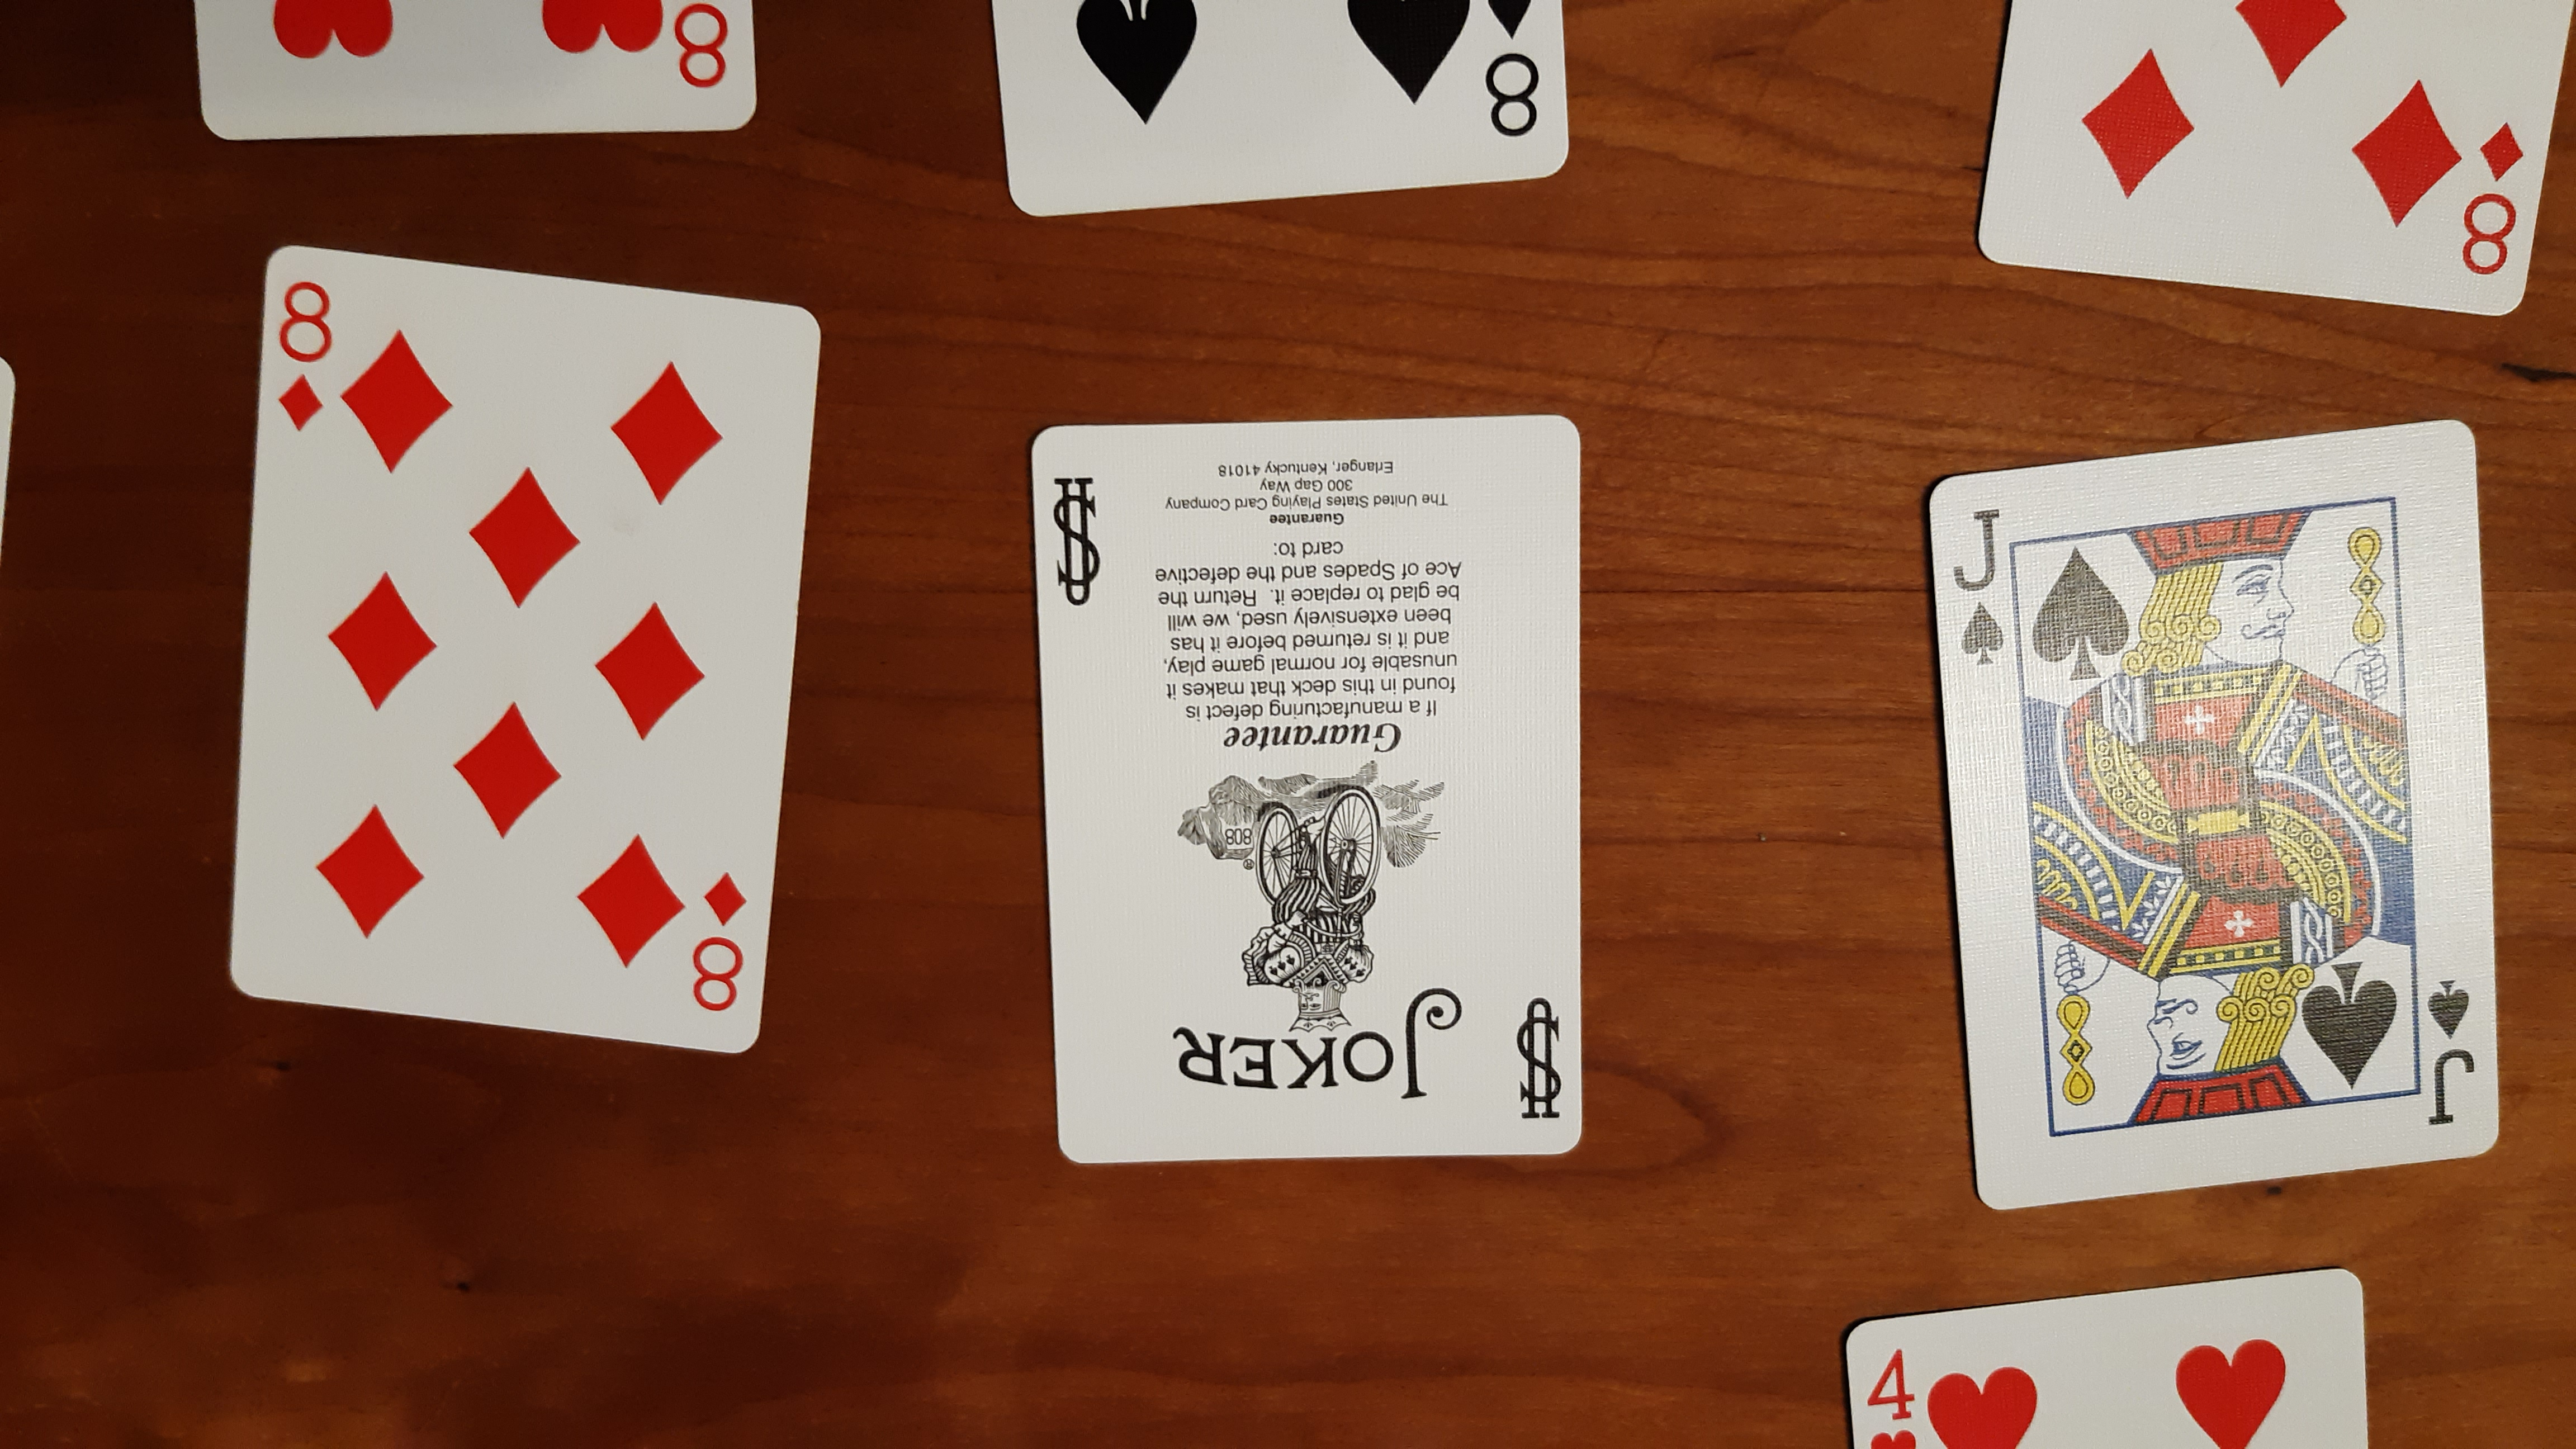Black_Spade_8: (1065, 2, 1548, 136)
Black_Spade_Jack: (1937, 499, 2020, 674), (2417, 970, 2486, 1132)
Joker: (1159, 984, 1472, 1108)
Red_Diamond_8: (2452, 108, 2537, 290), (269, 269, 343, 444), (683, 856, 752, 1024)
Red_Heart_4: (1863, 1332, 2309, 1449)
Red_Heart_8: (264, 2, 740, 92)
